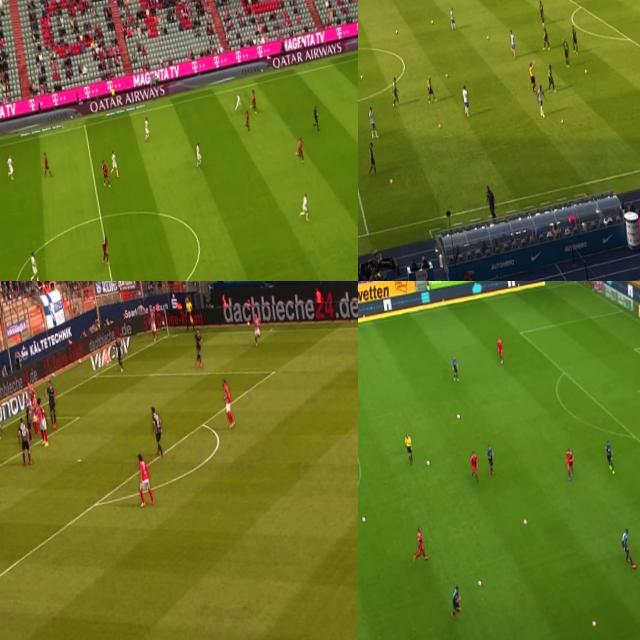ball: (592, 618, 598, 626), (478, 578, 483, 586), (361, 515, 366, 522), (456, 411, 460, 419), (360, 74, 365, 80), (437, 124, 442, 130), (390, 177, 394, 183), (395, 28, 399, 34), (426, 459, 430, 465), (524, 519, 528, 525), (561, 117, 564, 123), (430, 20, 434, 24), (584, 70, 588, 74), (446, 72, 448, 78), (486, 35, 489, 39)
player: (136, 450, 156, 506), (218, 377, 238, 432), (148, 404, 168, 456), (34, 396, 52, 446), (16, 418, 34, 467), (620, 526, 638, 571), (44, 379, 58, 426), (410, 524, 428, 560), (146, 304, 160, 344), (604, 438, 618, 476), (26, 381, 40, 418), (24, 394, 36, 436), (534, 85, 548, 120), (250, 311, 263, 348), (193, 329, 206, 365), (448, 584, 462, 616), (366, 141, 378, 176), (114, 335, 126, 370), (28, 251, 41, 281), (461, 83, 472, 118), (299, 191, 311, 223), (564, 448, 576, 480), (369, 106, 380, 140), (295, 134, 307, 164), (100, 158, 111, 189), (4, 152, 16, 180), (248, 86, 260, 114), (100, 234, 110, 265), (390, 76, 400, 107), (42, 150, 52, 180), (195, 140, 205, 170), (426, 74, 436, 104), (546, 64, 556, 94), (486, 444, 496, 474), (450, 355, 461, 382), (542, 23, 552, 52), (468, 452, 479, 478), (110, 148, 120, 176), (562, 38, 571, 68), (142, 114, 152, 140), (497, 338, 506, 366), (508, 29, 516, 58), (572, 26, 580, 54), (244, 110, 252, 132), (539, 1, 546, 26), (234, 92, 241, 112), (450, 8, 456, 30)
